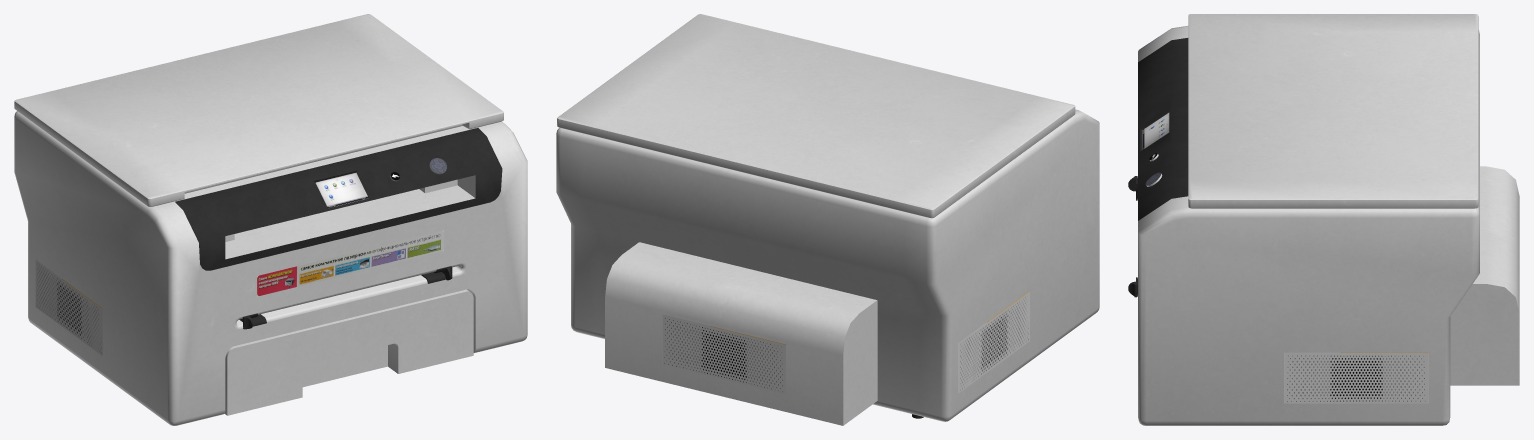
The model's file is SM_打印机_机体.FBX.
The picture shows the model from 3 angles, left to right: view 1: azimuth 30°, elevation 25°; view 2: azimuth 150°, elevation 25°; view 3: azimuth 270°, elevation 25°; orthographic projection. The views are drawn at different scales.
Visible parts, largest first — view 1: SM_打印机_机体; view 2: SM_打印机_机体; view 3: SM_打印机_机体.
Part boxes in pixels (box(x1,y1,x2,y2)): SM_打印机_机体: box(14, 14, 527, 425); SM_打印机_机体: box(556, 14, 1099, 425); SM_打印机_机体: box(1128, 14, 1519, 425).
Bounding box in the file's own units: 408 × 238 × 360.
